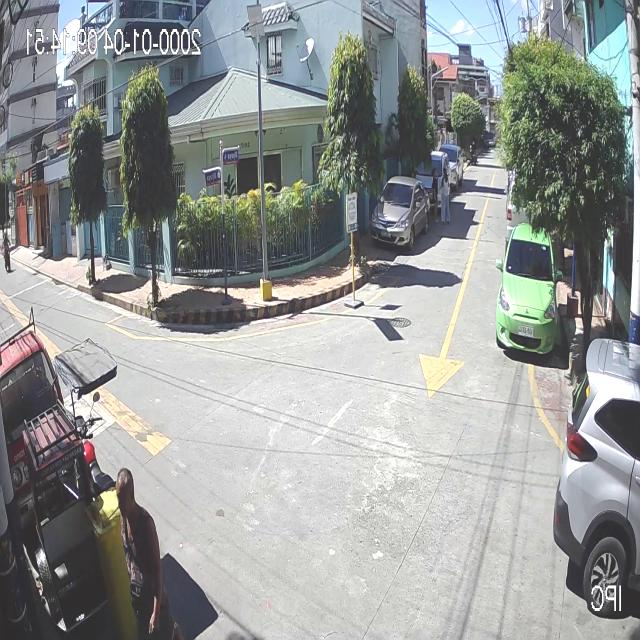walking: (116, 467, 183, 640), (438, 167, 451, 227), (431, 168, 440, 225)
